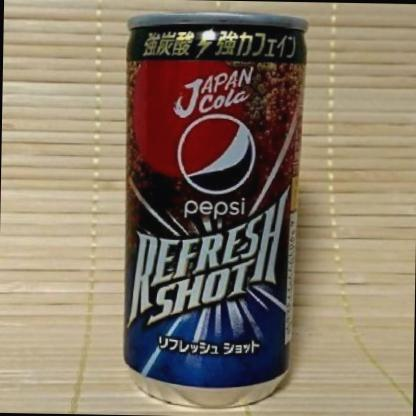alumunium_can: (118, 9, 308, 411)
